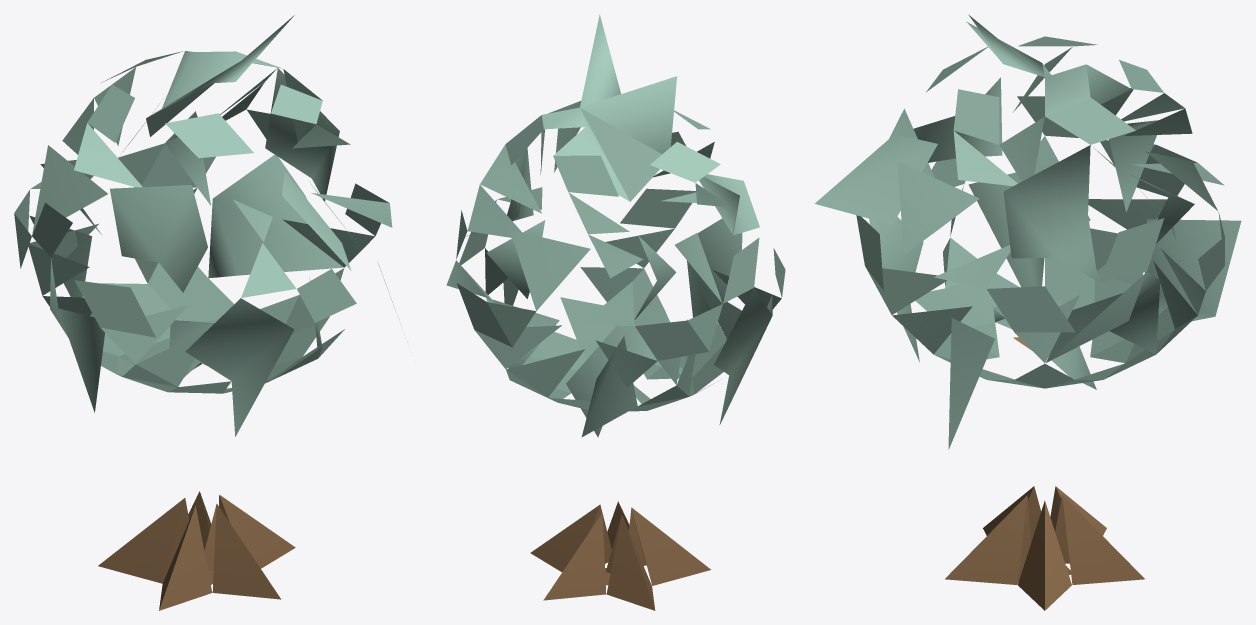
Rendered from tree-lo.glb.
3 renders of one model, left to right at view 1: azimuth 30°, elevation 25°; view 2: azimuth 150°, elevation 25°; view 3: azimuth 270°, elevation 25°, orthographic. The views are drawn at different scales.
Visible parts, largest first — view 1: root_mesh; view 2: root_mesh; view 3: root_mesh.
Part boxes in pixels (left/top/right/bottom): root_mesh: left=14, top=15, right=401, bottom=610; root_mesh: left=446, top=14, right=785, bottom=610; root_mesh: left=814, top=14, right=1241, bottom=610.
Size of the model in its own units: 2.37 by 3.99 by 2.65.
